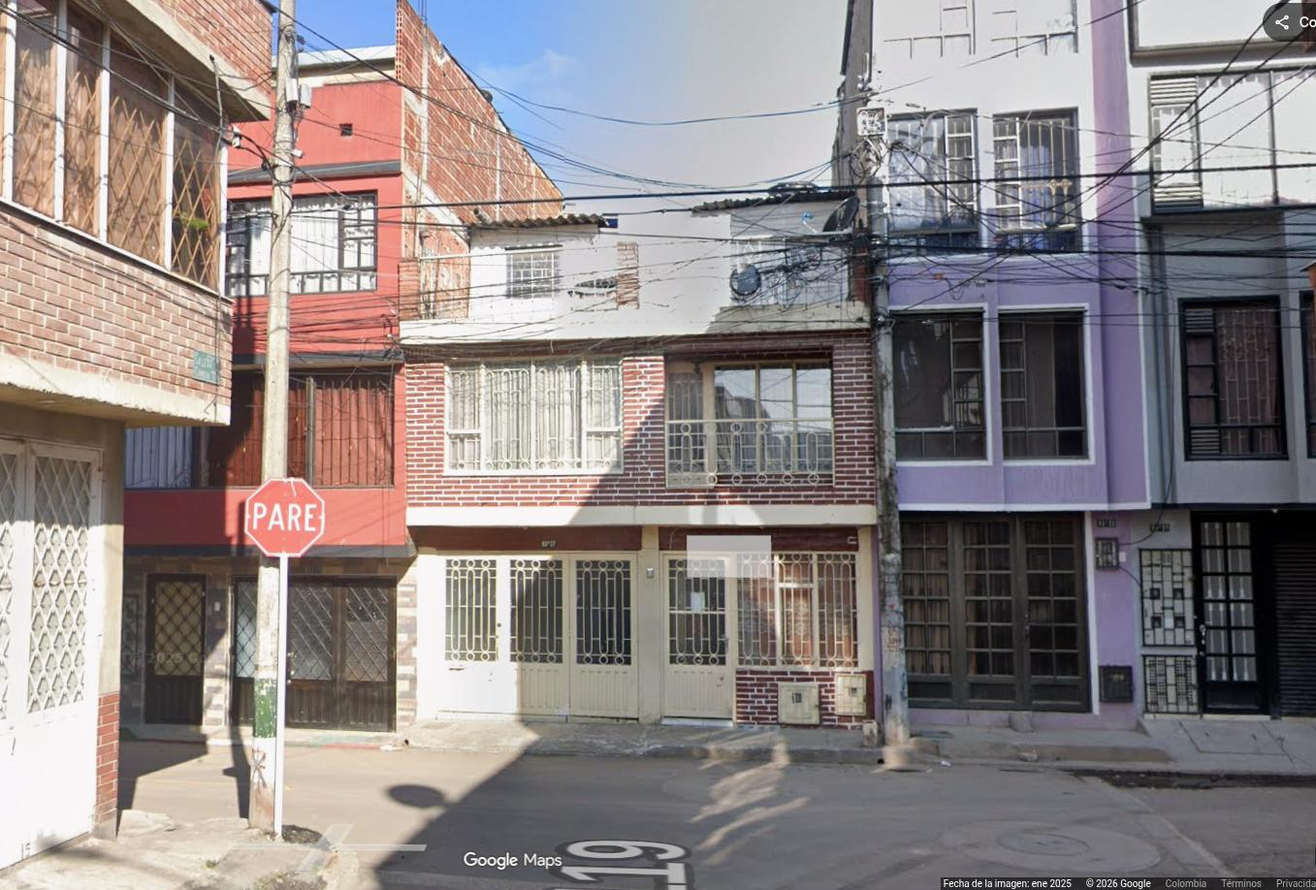casa: (396, 186, 876, 727), (0, 0, 268, 868), (833, 0, 1152, 728), (285, 0, 561, 729), (1115, 4, 1315, 716), (121, 123, 272, 727)
poste: (247, 0, 312, 831), (851, 96, 909, 747)
